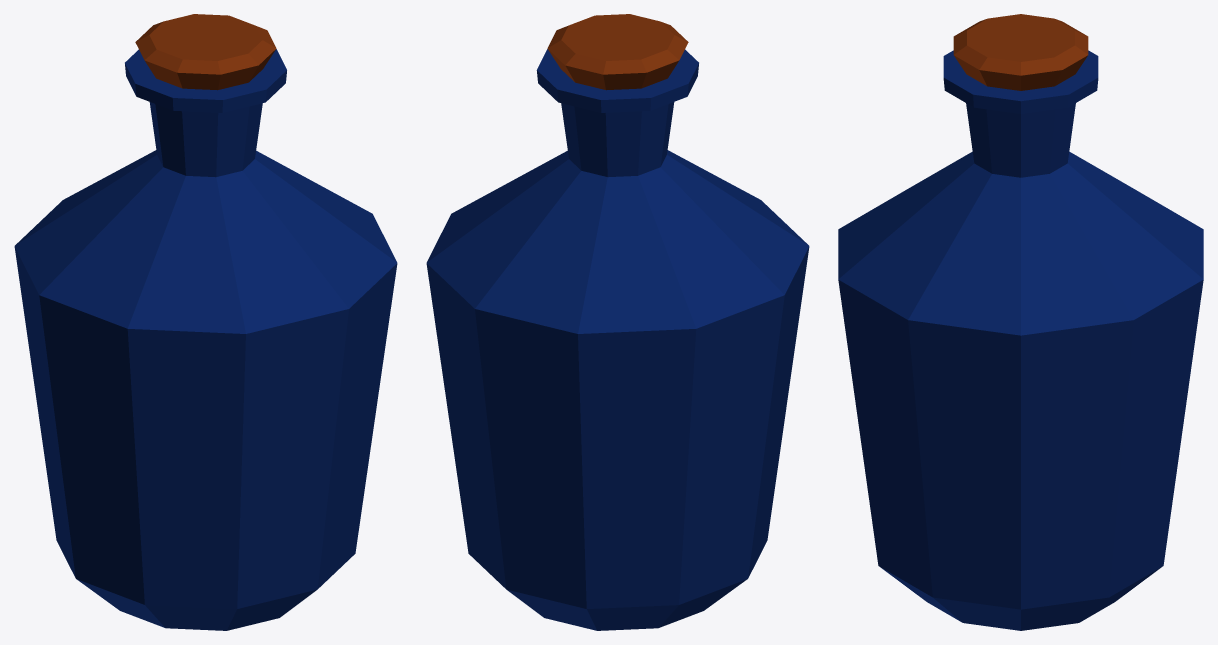
The model's file is MESH_Jar.fbx.
The picture shows the model from 3 angles, left to right: view 1: azimuth 30°, elevation 25°; view 2: azimuth 150°, elevation 25°; view 3: azimuth 270°, elevation 25°; orthographic projection.
Visible parts, largest first — view 1: MESH_Jar; view 2: MESH_Jar; view 3: MESH_Jar.
Part boxes in pixels (<box>): MESH_Jar: <box>14,14,397,630</box>; MESH_Jar: <box>426,14,809,630</box>; MESH_Jar: <box>838,14,1203,630</box>.
Bounding box in the file's own units: 0.1909 × 0.3022 × 0.1816.
